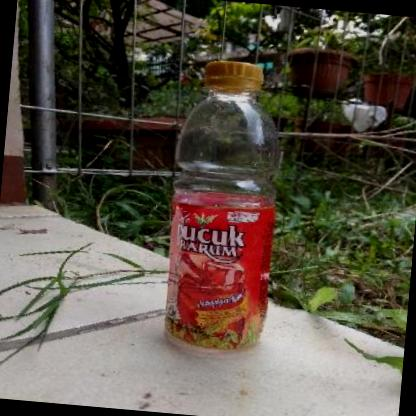plastic_bottles: (155, 54, 293, 361)
